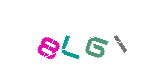1: (61, 0, 141, 80)
6: (34, 0, 114, 80)
8: (8, 0, 88, 80)
L: (28, 0, 108, 80)
